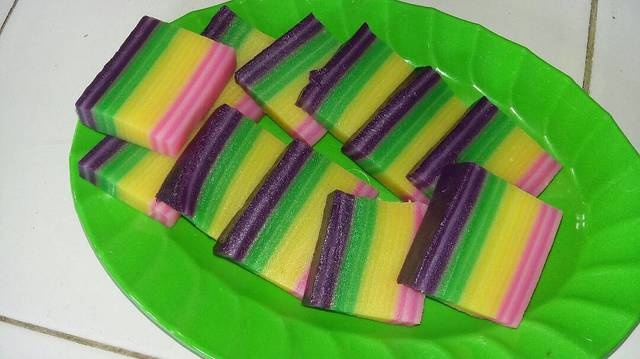kue_lapis_pelangi: (401, 160, 548, 327), (73, 13, 237, 159)
